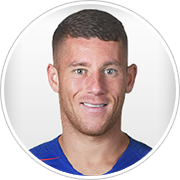smile: (78, 100, 109, 110)
